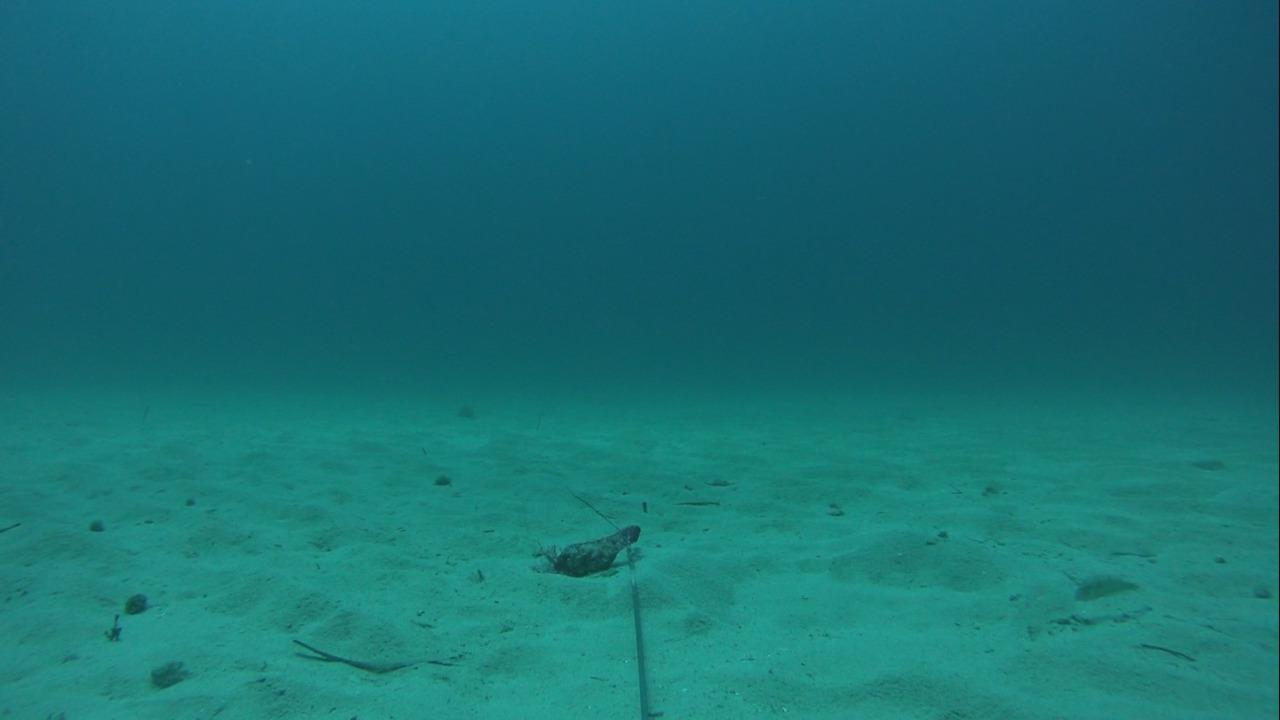raor: (1074, 574, 1139, 604)
